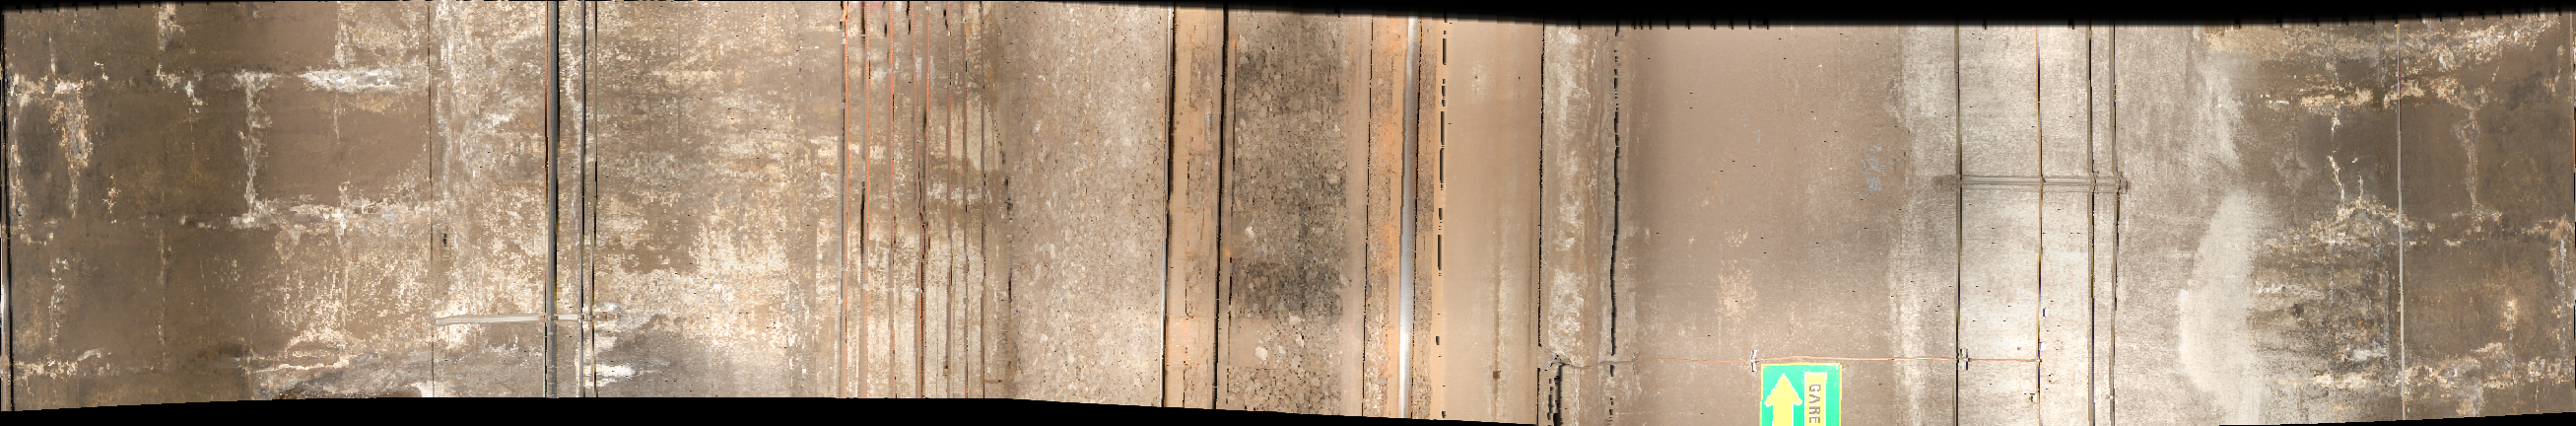pipes: (836, 2, 994, 419), (539, 5, 614, 400), (2080, 25, 2129, 426), (1943, 21, 1980, 426), (2031, 30, 2047, 426)
sign: (1759, 365, 1838, 426)
tracks: (1168, 7, 1543, 426)
